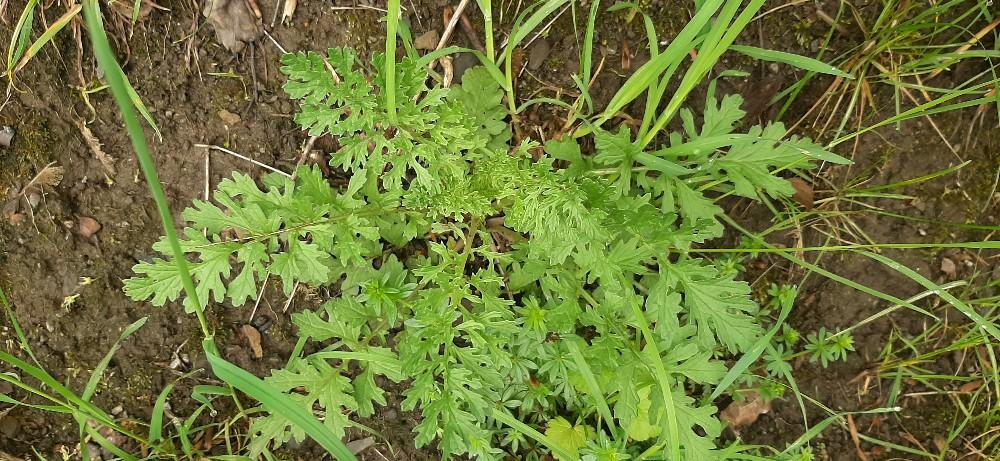Jacobaea vulgaris: (124, 30, 862, 461)
